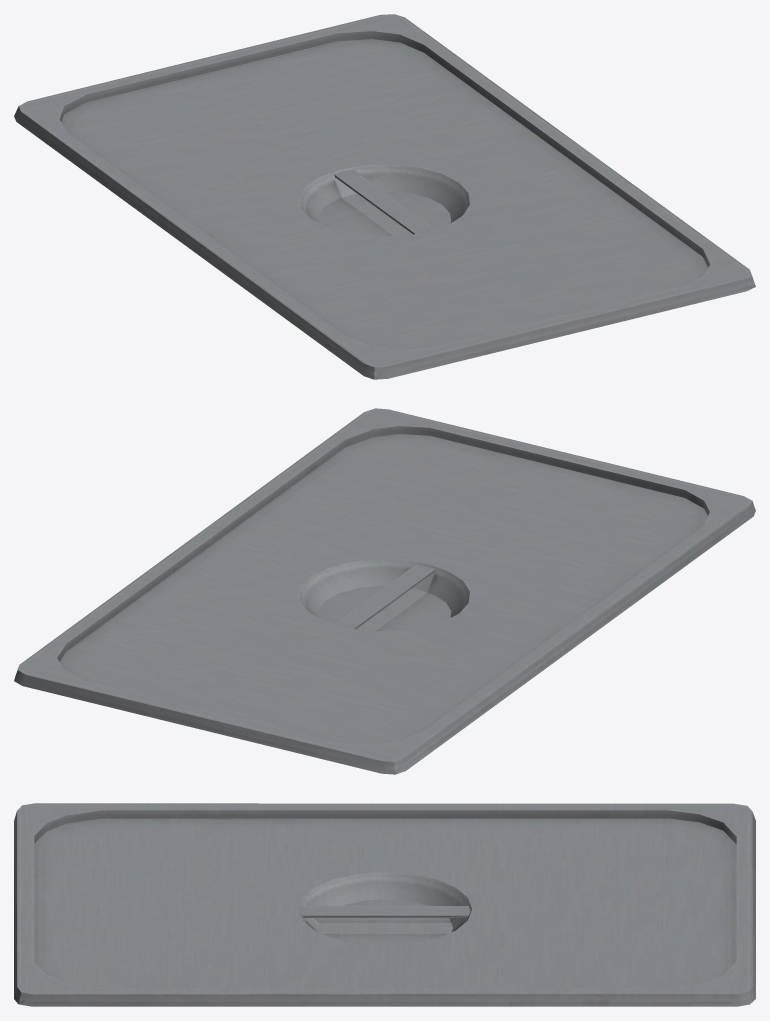
Rendered from SM_Hotel_Pan_1_1_Lid_01.glb.
The picture shows the model from 3 angles, top to bottom: view 1: azimuth 30°, elevation 25°; view 2: azimuth 150°, elevation 25°; view 3: azimuth 270°, elevation 25°; orthographic projection.
Visible parts, largest first — view 1: SM_Hotel_Pan_1_1_Lid_01; view 2: SM_Hotel_Pan_1_1_Lid_01; view 3: SM_Hotel_Pan_1_1_Lid_01.
Boxes of the visible parts, <box> form: SM_Hotel_Pan_1_1_Lid_01: <box>14,14,755,379</box>; SM_Hotel_Pan_1_1_Lid_01: <box>14,408,755,774</box>; SM_Hotel_Pan_1_1_Lid_01: <box>14,803,755,1006</box>.
Size of the model in its own units: 0.33 by 0.0255 by 0.535.
1 material, 1 textured.
